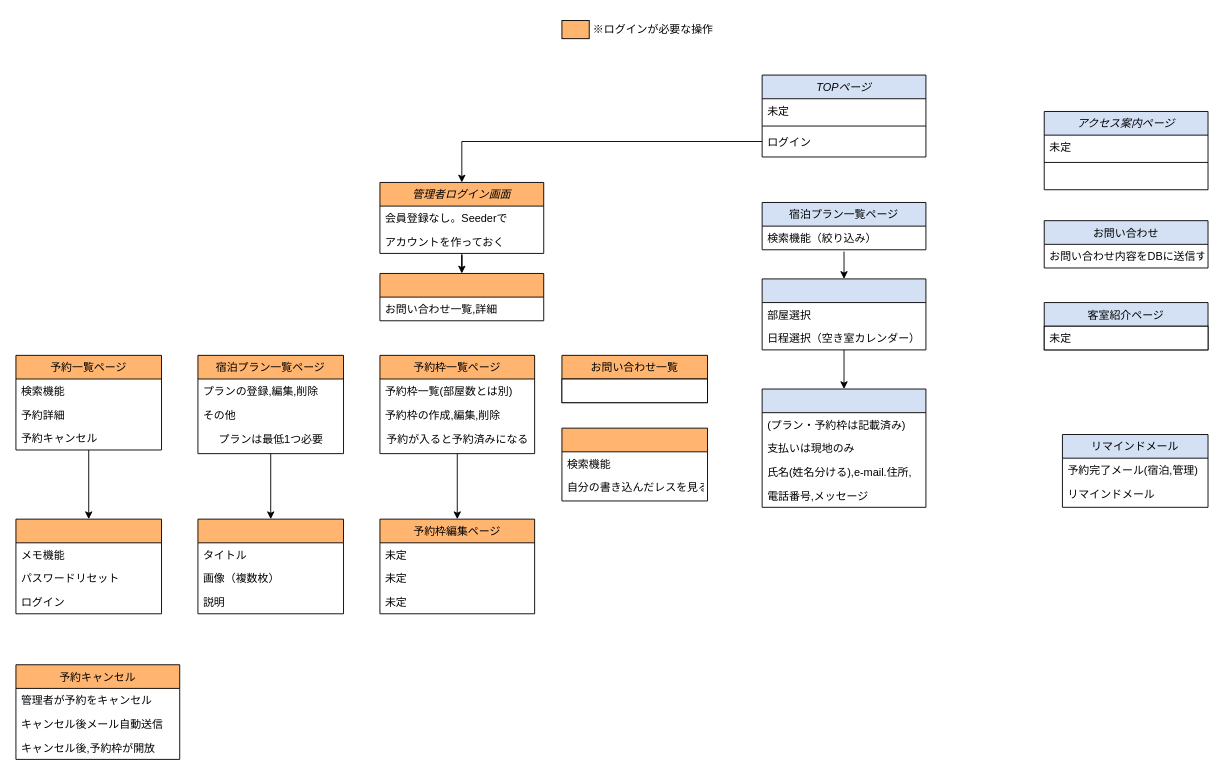
The diagram is 1232 pixels wide and 777 high, and some of its shapes have lost their labels. The shapes that lost their labels are listed below. From the top down, each one's box as (x1, y1, x2, y2) in pixels, then its label:
(379, 273, 544, 321): 管理ダッシュボード
(761, 278, 926, 350): 宿泊プラン詳細
(561, 378, 708, 403): お問い合わせの一覧を表示
(561, 427, 708, 501): お問い合わせ詳細
(761, 388, 926, 507): 予約ページ
(15, 518, 162, 614): 予約詳細ページ
(197, 518, 344, 614): 宿泊プラン編集ページ
